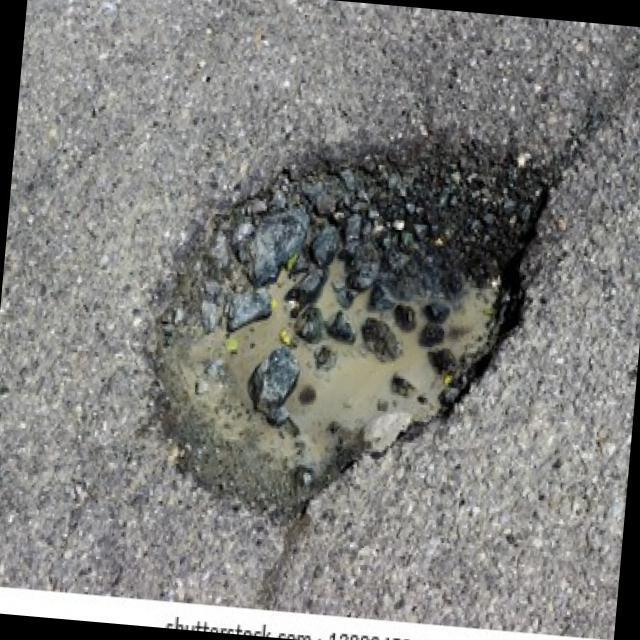Pothole: (141, 129, 557, 526)
